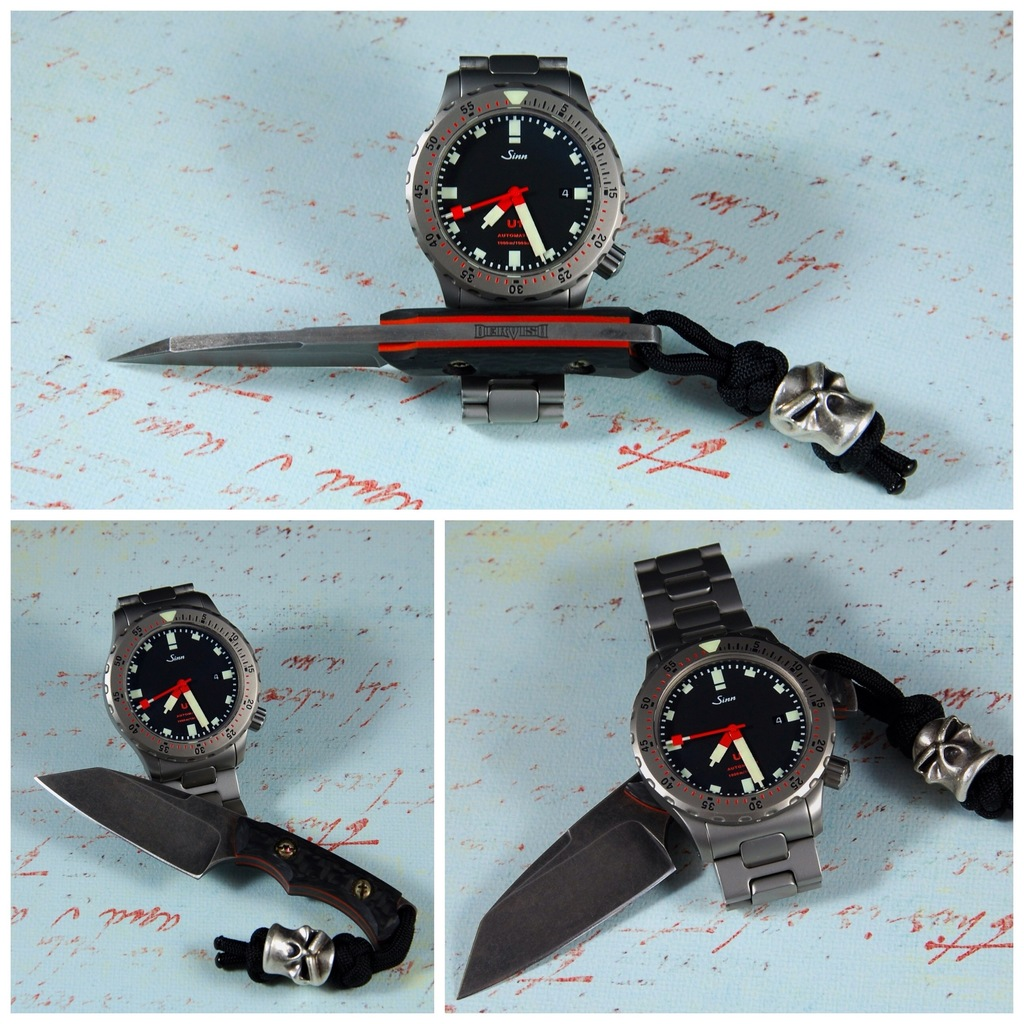watch: (402, 55, 630, 423), (626, 539, 848, 901)
